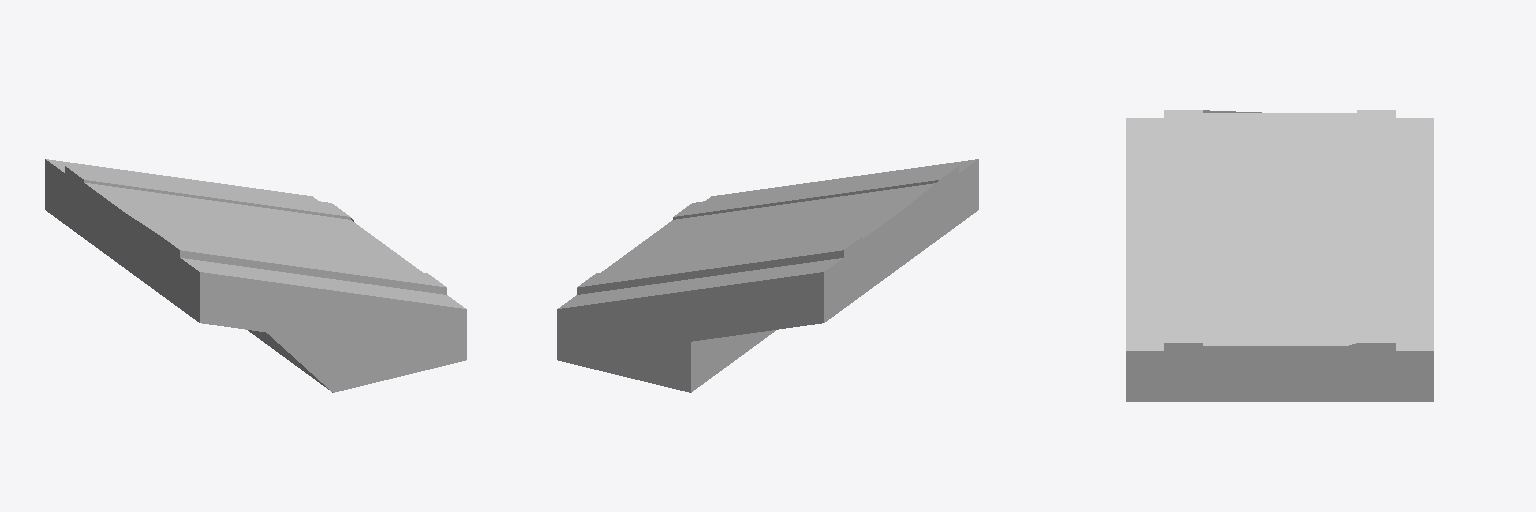
File: bridgeRamp.obj
The picture shows the model from 3 angles: view 1: azimuth 30°, elevation 25°; view 2: azimuth 150°, elevation 25°; view 3: azimuth 270°, elevation 25°; orthographic projection.
Parts seen in each view (by area): view 1: roadTile_165; view 2: roadTile_165; view 3: roadTile_165.
Boxes of the visible parts, box(x1,y1,x2,y2) form: roadTile_165: box(45, 159, 466, 392); roadTile_165: box(557, 159, 978, 392); roadTile_165: box(1126, 110, 1433, 401).
Bounding box in the file's own units: 3 × 1.73 × 3.